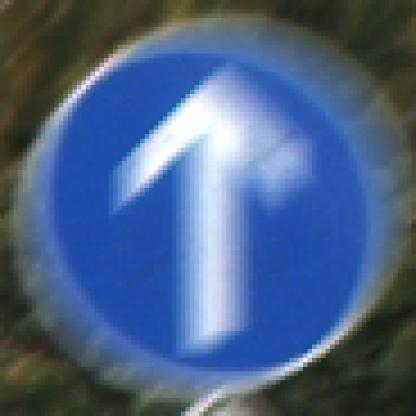AheadOnly: (37, 37, 381, 381)
